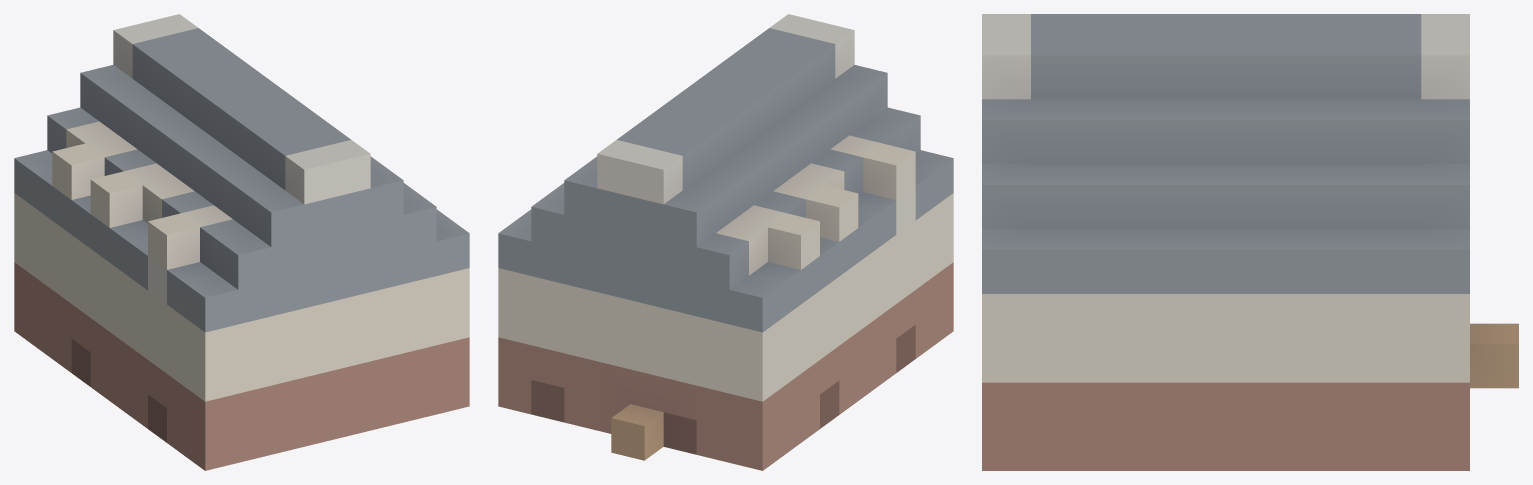
File: warehouse.l4.lite.glb
3 renders of one model, left to right at view 1: azimuth 30°, elevation 25°; view 2: azimuth 150°, elevation 25°; view 3: azimuth 270°, elevation 25°, orthographic. The views are drawn at different scales.
Parts seen in each view (by area): view 1: warehouse; view 2: warehouse; view 3: warehouse.
Part boxes in pixels (box(x1,y1,x2,y2)): warehouse: box(14, 14, 469, 470); warehouse: box(498, 14, 953, 470); warehouse: box(982, 14, 1518, 470).
Size of the model in its own units: 4 by 4 by 5.5.
